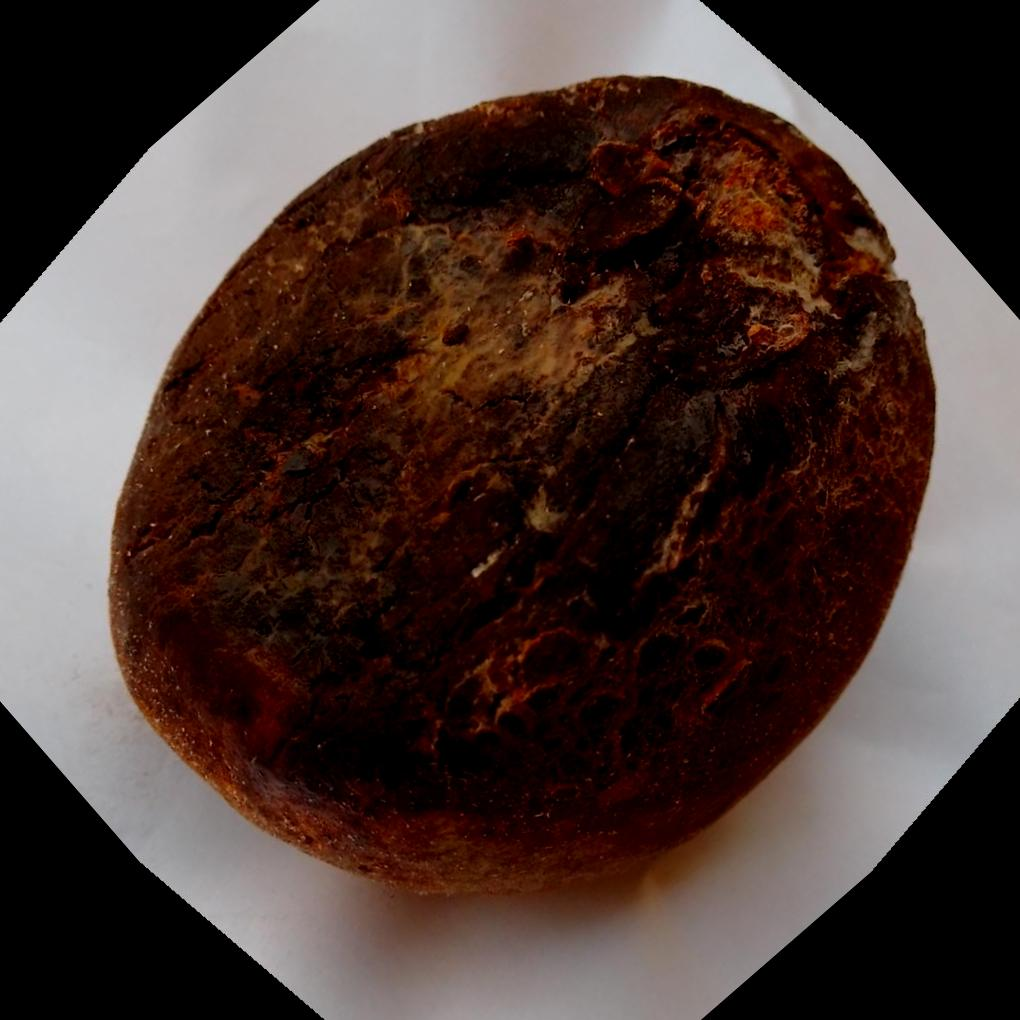FreshOrange: (108, 74, 942, 903)
